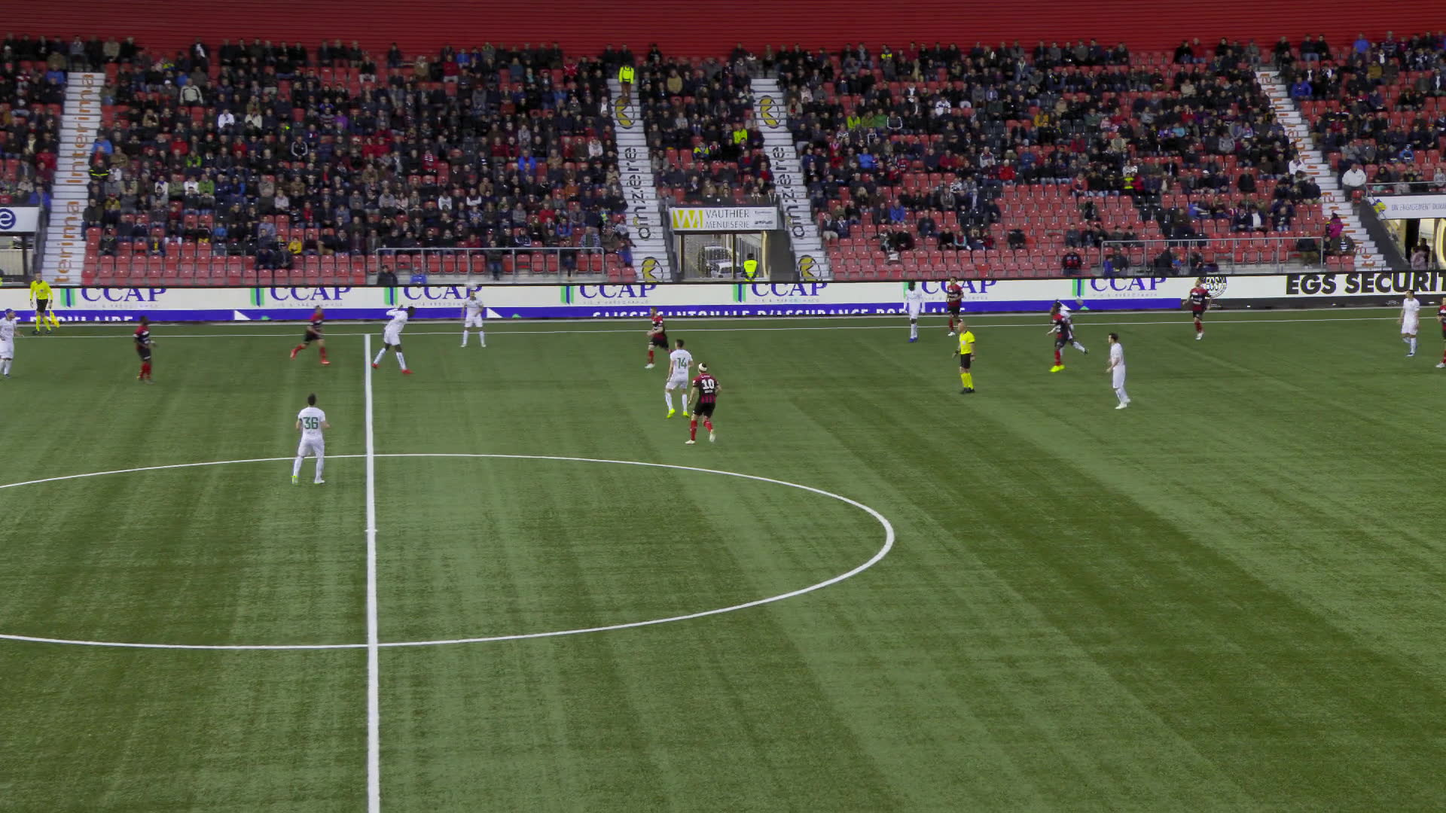ball: (452, 282, 465, 291)
player: (285, 393, 326, 485), (687, 364, 722, 446), (373, 300, 412, 373), (1043, 300, 1087, 355), (664, 340, 693, 418), (285, 305, 320, 364), (1103, 333, 1128, 408), (1181, 276, 1210, 340), (1044, 307, 1072, 373), (898, 279, 925, 343), (130, 315, 154, 385), (0, 308, 24, 378), (456, 289, 484, 346), (1396, 288, 1418, 356), (648, 307, 671, 368), (943, 276, 962, 336), (1435, 297, 1445, 367)
referee: (948, 323, 977, 394), (26, 271, 57, 335)
